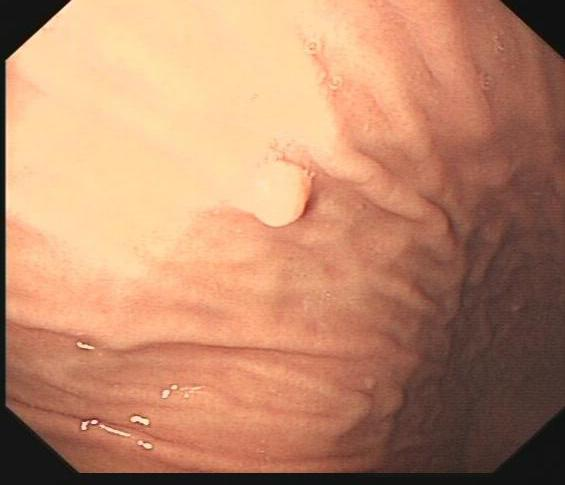Polyp: (243, 157, 312, 231)
